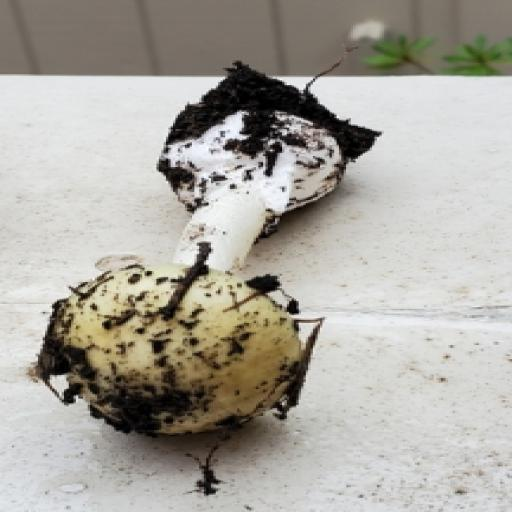mushroom: (17, 224, 328, 473), (169, 168, 277, 291)
